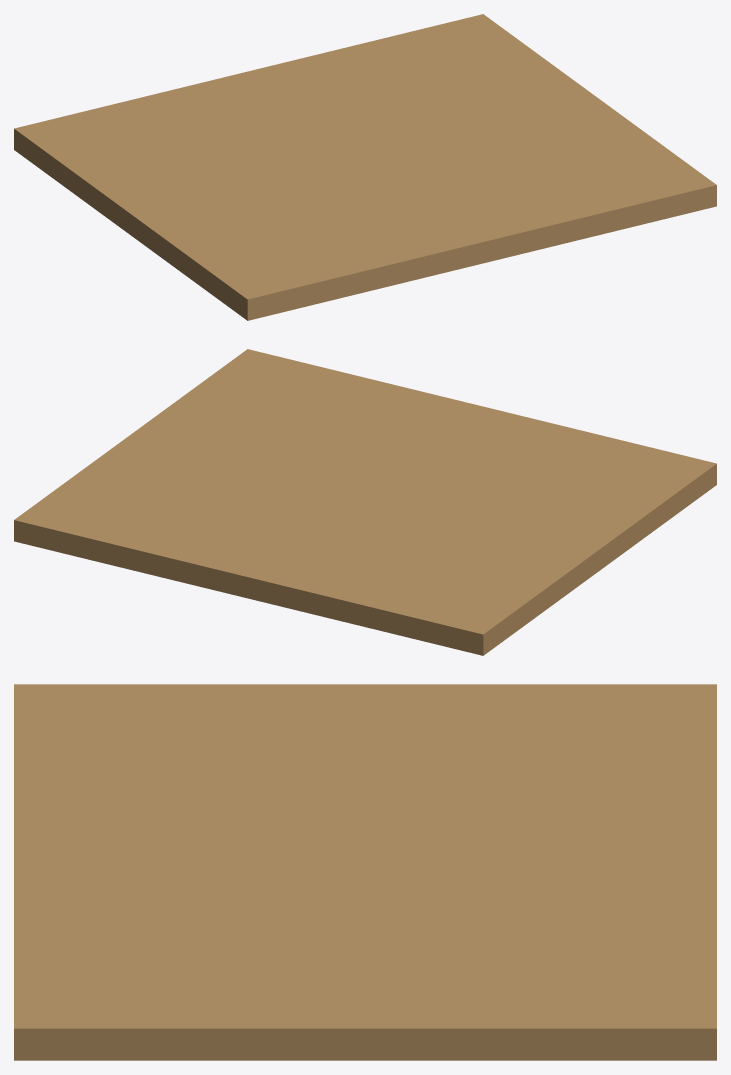
The model's file is gab_prat_logica.glb.
The picture shows the model from 3 angles, top to bottom: view 1: azimuth 30°, elevation 25°; view 2: azimuth 150°, elevation 25°; view 3: azimuth 270°, elevation 25°; orthographic projection. The views are drawn at different scales.
Visible parts, largest first — view 1: gab_prat_logica; view 2: gab_prat_logica; view 3: gab_prat_logica.
Boxes of the visible parts, x1,y1,x2,y2 form: gab_prat_logica: (14,14,716,320); gab_prat_logica: (14,349,716,655); gab_prat_logica: (14,684,716,1060).
Size of the model in its own units: 414 by 18 by 357.
